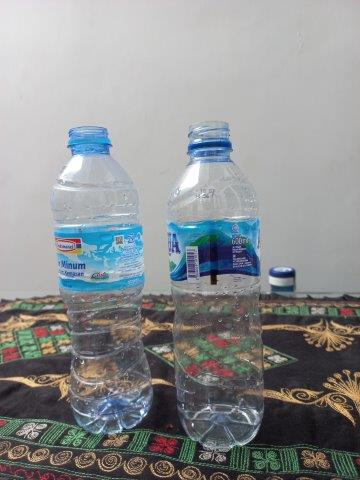botolplastik: (167, 120, 265, 448), (52, 126, 154, 433)
